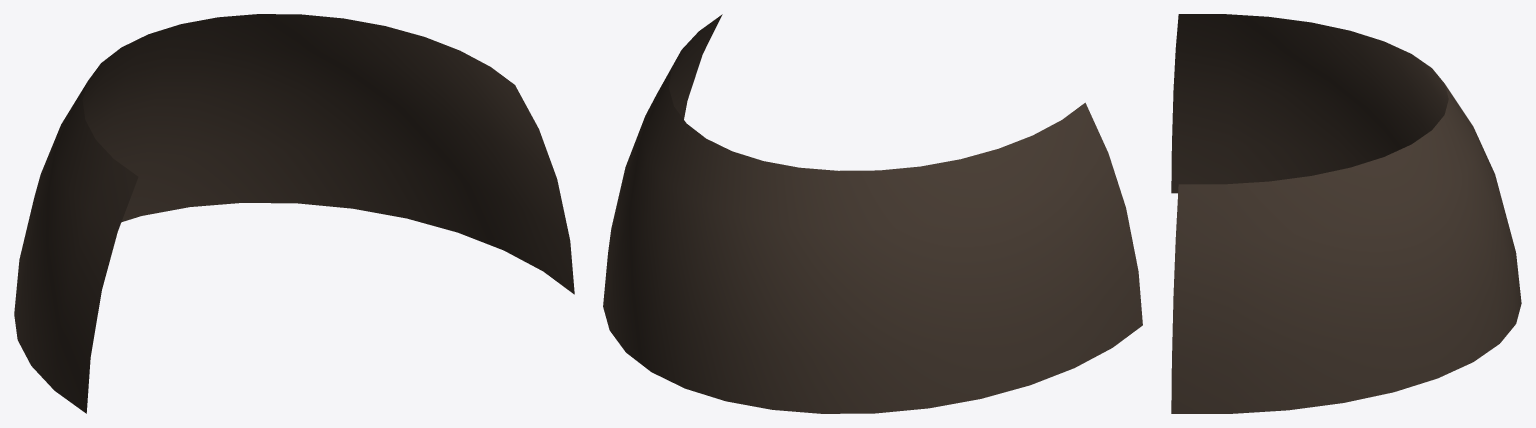
The model's file is hair_bald_ring.glb.
The picture shows the model from 3 angles, left to right: view 1: azimuth 30°, elevation 25°; view 2: azimuth 150°, elevation 25°; view 3: azimuth 270°, elevation 25°; orthographic projection. The views are drawn at different scales.
Visible parts, largest first — view 1: hair_bald_ring; view 2: hair_bald_ring; view 3: hair_bald_ring.
Part boxes in pixels (box(x1,y1,x2,y2)): hair_bald_ring: box(14, 14, 574, 413); hair_bald_ring: box(603, 14, 1142, 413); hair_bald_ring: box(1171, 14, 1521, 413).
Size of the model in its own units: 0.1672 by 0.0722 by 0.1121.
